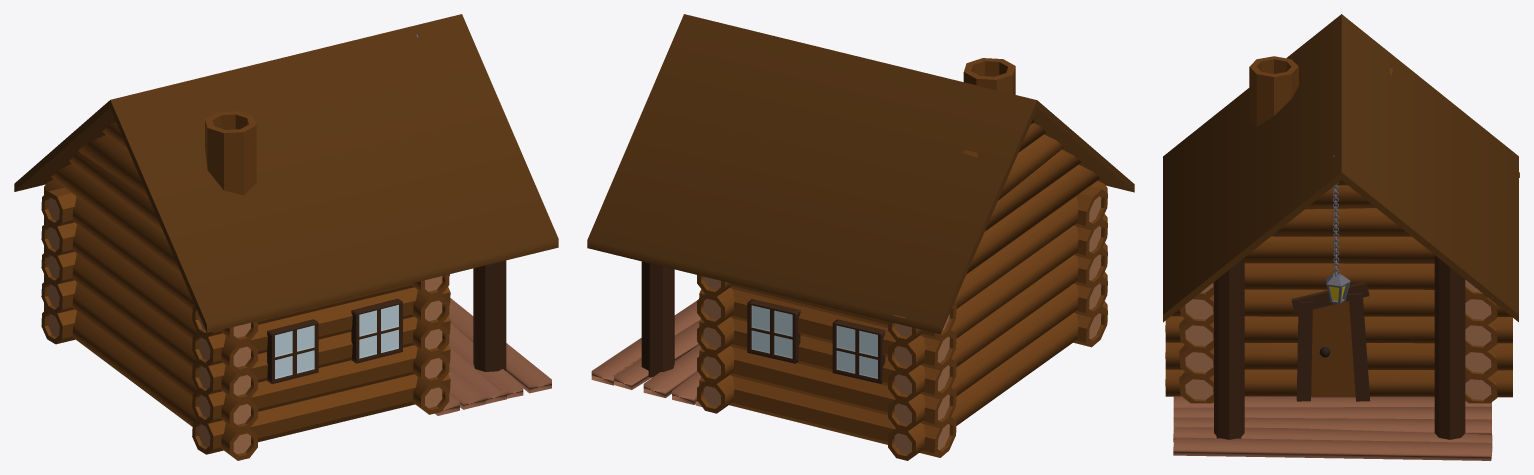
Rendered from cabin_Naomi.glb.
3 renders of one model, left to right at view 1: azimuth 30°, elevation 25°; view 2: azimuth 150°, elevation 25°; view 3: azimuth 270°, elevation 25°, orthographic. The views are drawn at different scales.
Parts seen in each view (by area): view 1: Cube, Cylinder.004, Cube.009, Cylinder, Cylinder.001, Cube.002, Cube.001; view 2: Cube, Cylinder.004, Cube.009, Cylinder.001, Cube.004, Cube.003, Cylinder; view 3: Cube, Cylinder.004, Cube.009, Cylinder.001, Sphere, Cube.007, Cylinder, Cylinder.002, Torus.002.
Boxes of the visible parts, <box> form: Cube: <box>14,14,558,333</box>; Cylinder.004: <box>41,122,450,460</box>; Cube.009: <box>435,298,551,415</box>; Cylinder: <box>205,111,256,195</box>; Cylinder.001: <box>473,260,506,371</box>; Cube.002: <box>267,319,318,384</box>; Cube.001: <box>351,298,402,363</box>; Cube: <box>587,14,1134,334</box>; Cylinder.004: <box>697,118,1107,460</box>; Cube.009: <box>591,301,701,406</box>; Cylinder.001: <box>641,261,674,377</box>; Cube.004: <box>747,299,800,363</box>; Cube.003: <box>832,319,885,383</box>; Cylinder: <box>963,58,1015,94</box>; Cube: <box>1163,14,1518,322</box>; Cylinder.004: <box>1165,68,1519,403</box>; Cube.009: <box>1173,396,1492,460</box>; Cylinder.001: <box>1214,255,1465,439</box>; Sphere: <box>1311,289,1355,397</box>; Cube.007: <box>1291,281,1370,401</box>; Cylinder: <box>1249,56,1298,126</box>; Cylinder.002: <box>1326,271,1350,304</box>; Torus.002: <box>1332,155,1339,276</box>.
Bounding box in the file's own units: 11.35 × 9.26 × 10.48.
